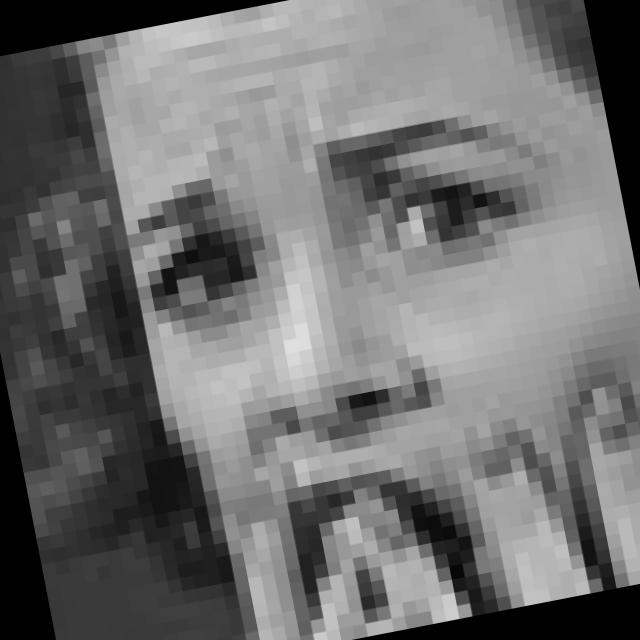fear: (120, 87, 631, 640)
